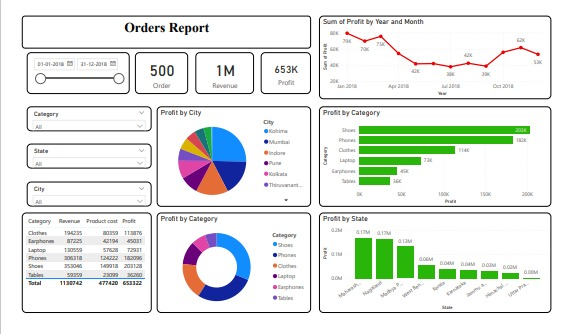

What the dashboard file says about the page in this screenshot:
{"tool":"powerbi","page":{"name":"Page 1","canvas":[1280,720],"ordinal":0},"visuals":[{"type":"textbox","box":[10,0,685,76.7],"z":0},{"type":"card","fields":{"Values":["CountNonNull(Orders.Order ID)"]},"box":[278.3,86.7,125,98.3],"z":1000},{"type":"card","fields":{"Values":["Sum(Orders.order_total)"]},"box":[421.7,86.7,138.3,98.3],"z":2000},{"type":"card","fields":{"Values":["Sum(Orders.Profit)"]},"box":[576.7,86.7,118.3,98.3],"z":3000},{"type":"lineChart","fields":{"Category":["Orders.Order Date.Variation.Date Hierarchy.Year","Orders.Order Date.Variation.Date Hierarchy.Month"],"Y":["Sum(Orders.Profit)"]},"box":[715,0,550,196.7],"z":4000},{"type":"clusteredBarChart","fields":{"Category":["Orders.Category"],"Y":["Sum(Orders.Profit)"]},"box":[715,215,550,236.7],"z":5000},{"type":"clusteredColumnChart","fields":{"Y":["Sum(Orders.Profit)"],"Category":["Orders.State"]},"box":[715,466.7,550,236.7],"z":6000},{"type":"pieChart","fields":{"Y":["Sum(Orders.Profit)"],"Category":["Orders.City"]},"box":[330,215,365,236.7],"z":7000},{"type":"donutChart","fields":{"Y":["Sum(Orders.Profit)"],"Category":["Orders.Category"]},"box":[330,466.7,365,236.7],"z":8000},{"type":"tableEx","fields":{"Values":["Orders.Category","Sum(Orders.order_total)","Sum(Orders.Product cost)","Sum(Orders.Profit)"]},"box":[10,466.7,306.7,236.7],"z":8001},{"type":"slicer","fields":{"Values":["Orders.Order Date"]},"box":[21.7,86.7,243.3,98.3],"z":8002},{"type":"slicer","fields":{"Values":["Orders.Category"]},"box":[21.7,215,295,58.3],"z":8003},{"type":"slicer","fields":{"Values":["Orders.State"]},"box":[21.7,303.3,295,58.3],"z":8005},{"type":"slicer","fields":{"Values":["Orders.City"]},"box":[21.7,393.3,295,58.3],"z":8006}]}

Visuals, with their boxes in screenshot pixels (x1, y1, x2, y2), scaled from the page's 1280x720 canvas onto the 582x334 screenshot:
textbox: 5:0:316:36
card - CountNonNull(Orders.Order ID): 127:40:183:86
card - Sum(Orders.order_total): 192:40:255:86
card - Sum(Orders.Profit): 262:40:316:86
lineChart - Orders.Order Date.Variation.Date Hierarchy.Year x Orders.Order Date.Variation.Date Hierarchy.Month: 325:0:575:91
clusteredBarChart - Orders.Category x Sum(Orders.Profit): 325:100:575:210
clusteredColumnChart - Sum(Orders.Profit) x Orders.State: 325:216:575:326
pieChart - Sum(Orders.Profit) x Orders.City: 150:100:316:210
donutChart - Sum(Orders.Profit) x Orders.Category: 150:216:316:326
tableEx - Orders.Category x Sum(Orders.order_total): 5:216:144:326
slicer - Orders.Order Date: 10:40:120:86
slicer - Orders.Category: 10:100:144:127
slicer - Orders.State: 10:141:144:168
slicer - Orders.City: 10:182:144:209
